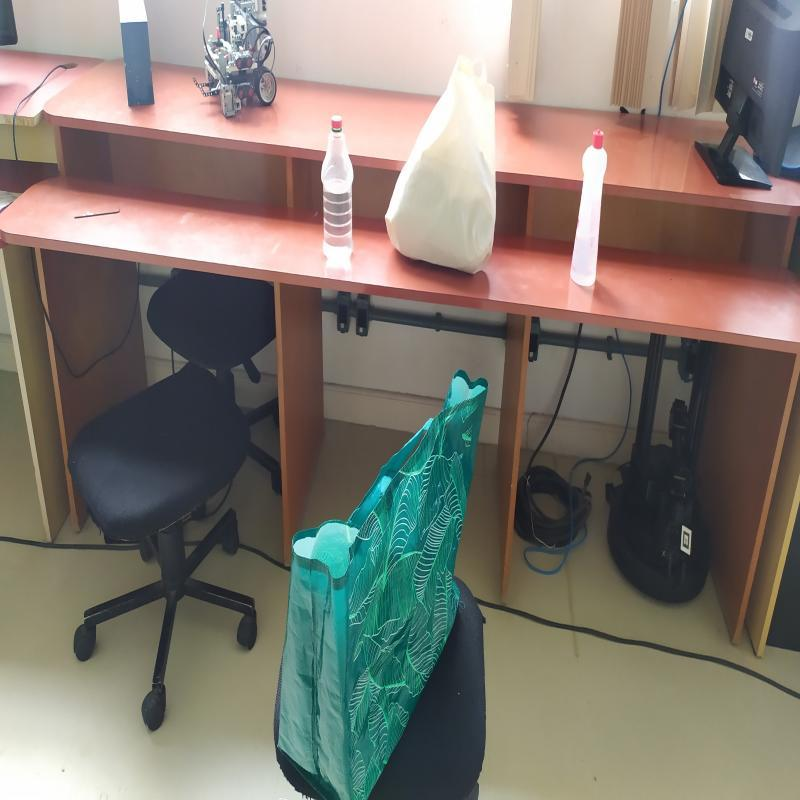Bag: (277, 362, 491, 800), (386, 48, 500, 280)
